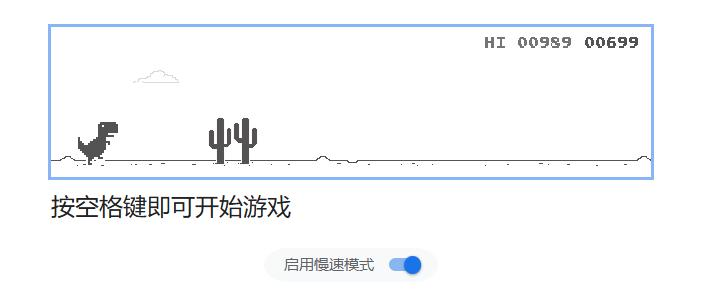cactus: (208, 117, 260, 166)
dino: (74, 120, 119, 166)
